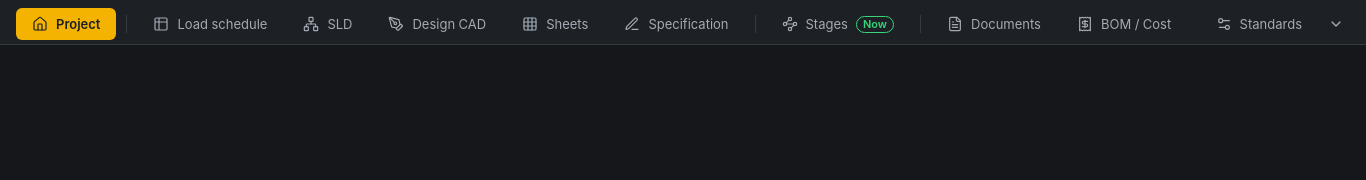
Scenario: the Stages tab › drops down with its sub-tabs while the ribbon is collapsed, and stays open when a stage is chosen
Step 1. Click the tab with id "ribbon-tab-stages" → (838,24), box [766,8,910,40]
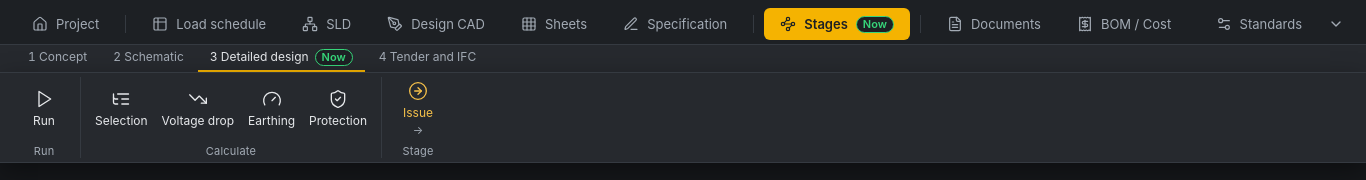
Expected: the element with id "ribbon-tools" is shown, [0,72,1365,163]
Step 2. Click the tab "1 Concept" → (58,58), box [16,45,99,72]
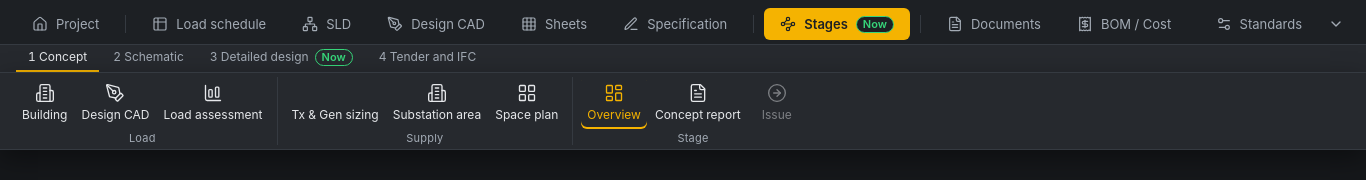
Expected: the element with id "ribbon-tools" shows "Load assessment", [158,77,268,129]
Step 3. Click the tab with id "ribbon-tab-stages" → (837,24), box [764,8,910,40]
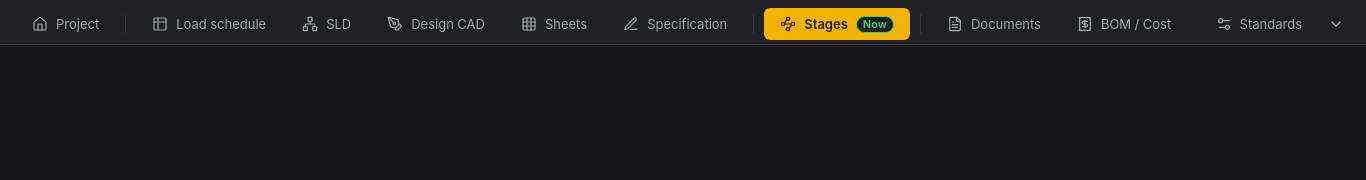
Expected: the tab with id "ribbon-tools" is gone
Expected: the element named "Stages" is gone
